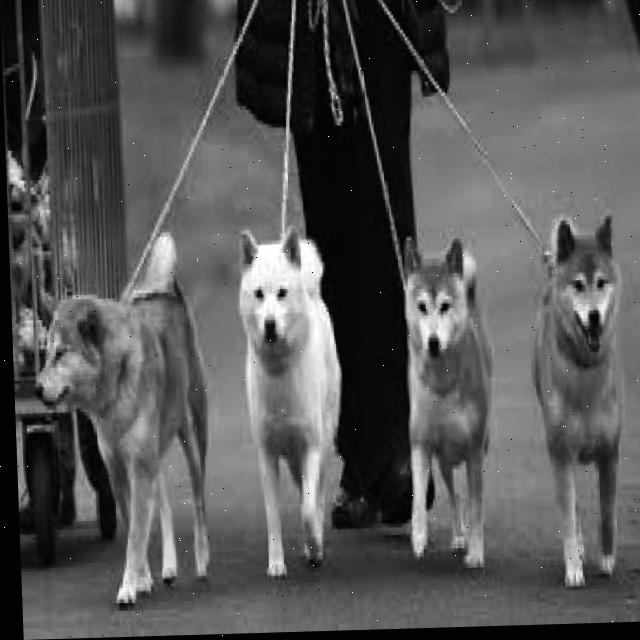Dog: (33, 233, 225, 612), (228, 222, 357, 591), (395, 216, 508, 581), (531, 206, 637, 590)
